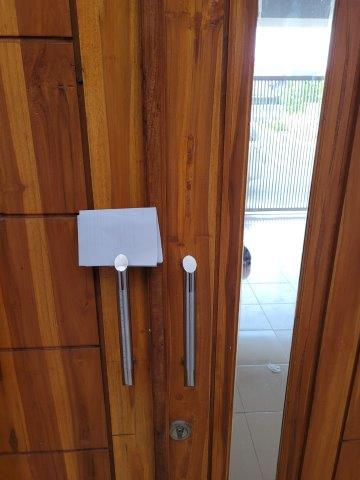kertas: (76, 208, 164, 268)
